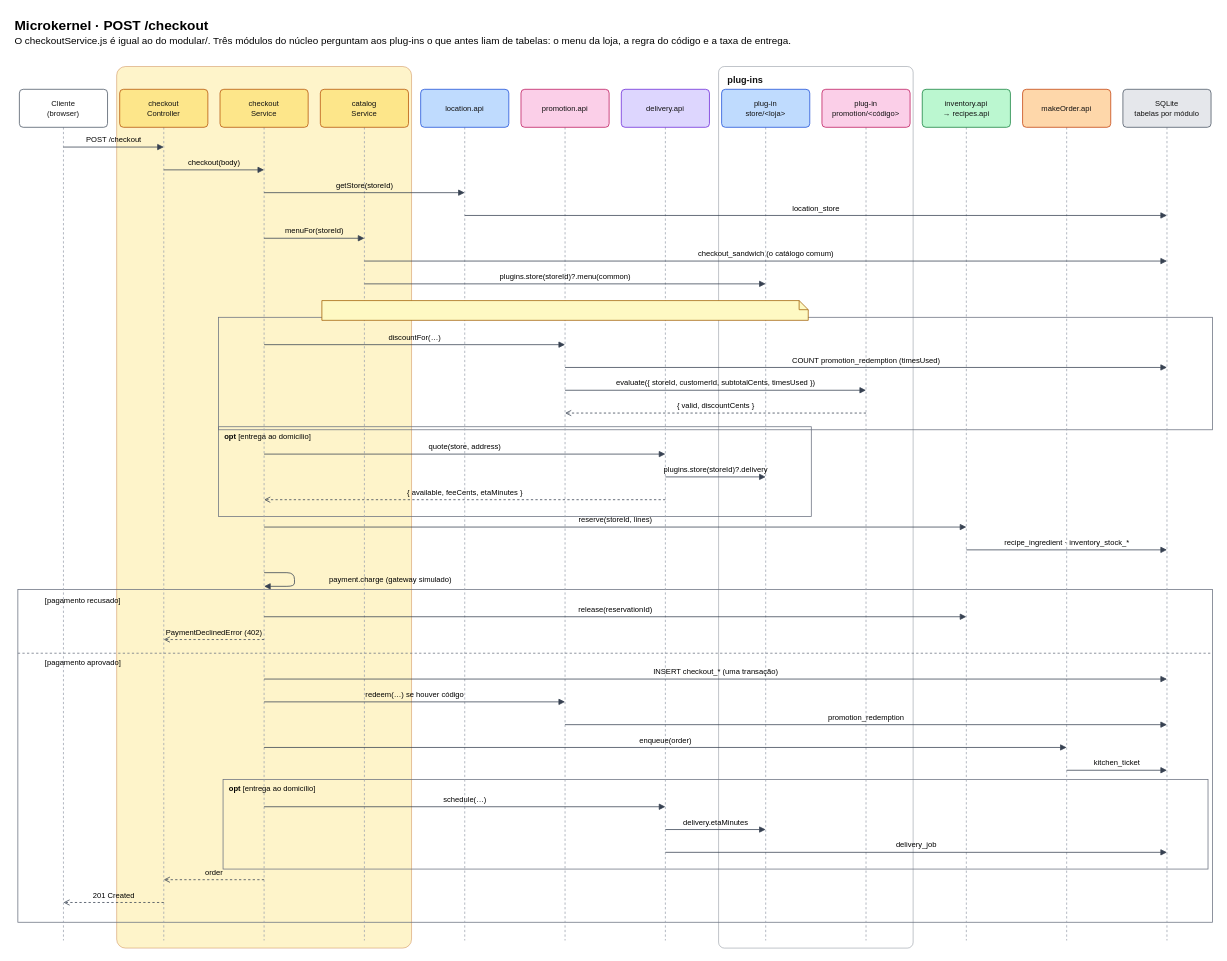
Image size: 1227x961. Some labels were removed from this diagram. The shapes that lost their labels are listed below. From the top down, each one's box as (x1, y1, x2, y2) in pixels, then its label:
(321, 300, 808, 320): sem plug-in (Coimbra): fica o menu comum
(218, 317, 1213, 430): opt [há código promocional]
(116, 66, 412, 948): catalogcheckout
(17, 589, 1213, 922): alt
